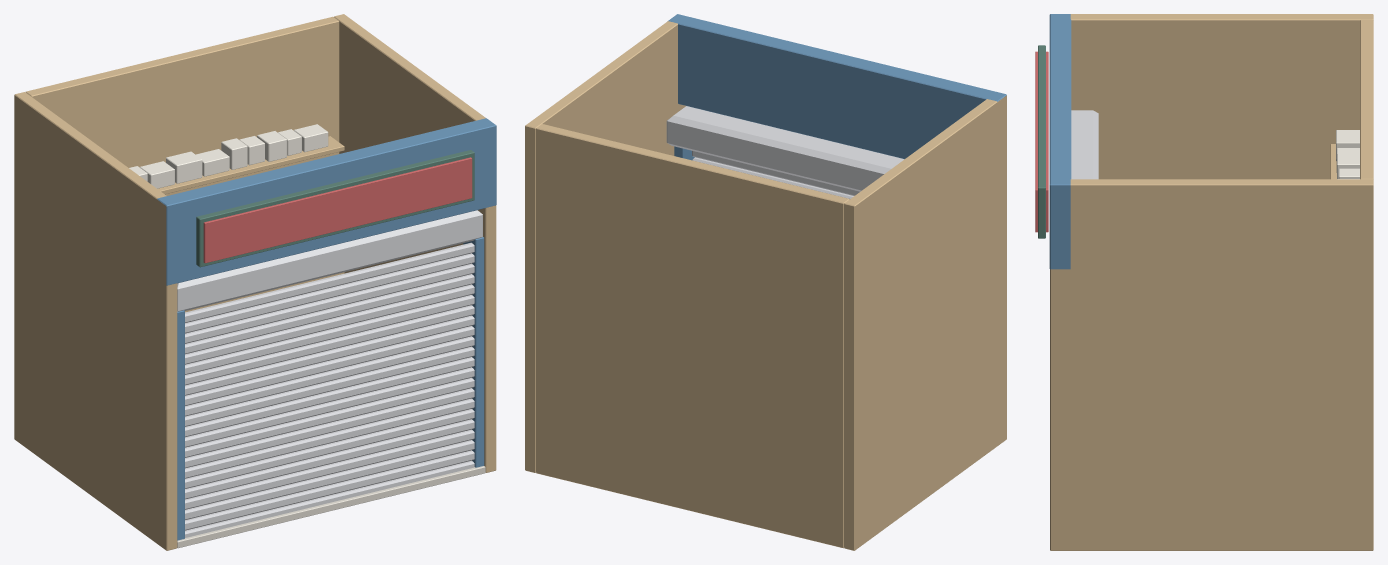
The model's file is indoor-market-hall-and-traders-lock-up-stall-unit-3085836b.glb.
3 renders of one model, left to right at view 1: azimuth 30°, elevation 25°; view 2: azimuth 150°, elevation 25°; view 3: azimuth 270°, elevation 25°, orthographic. The views are drawn at different scales.
Parts seen in each view (by area): view 1: lock-up-stall-unit, shutter; view 2: lock-up-stall-unit, shutter; view 3: lock-up-stall-unit.
Boxes of the visible parts, bbox=[...] form: lock-up-stall-unit: bbox=[14, 14, 496, 550]; shutter: bbox=[185, 242, 474, 537]; lock-up-stall-unit: bbox=[525, 14, 1006, 550]; shutter: bbox=[692, 151, 859, 199]; lock-up-stall-unit: bbox=[1035, 14, 1373, 550].
Bounding box in the file's own units: 3 × 3 × 2.51.
